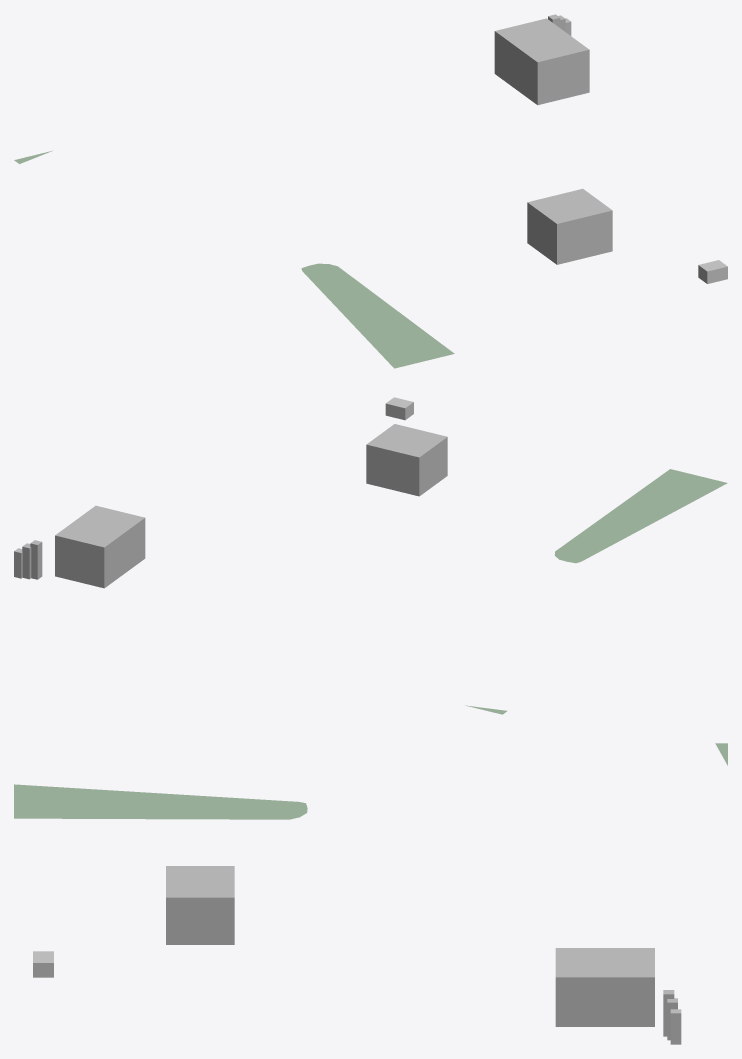
The model's file is 110_85_mid.glb.
3 views of the same model, one above another, from view 1: azimuth 30°, elevation 25°; view 2: azimuth 150°, elevation 25°; view 3: azimuth 270°, elevation 25° (orthographic). The views are drawn at different scales.
Size of the model in its own units: 499 by 38.46 by 500.
